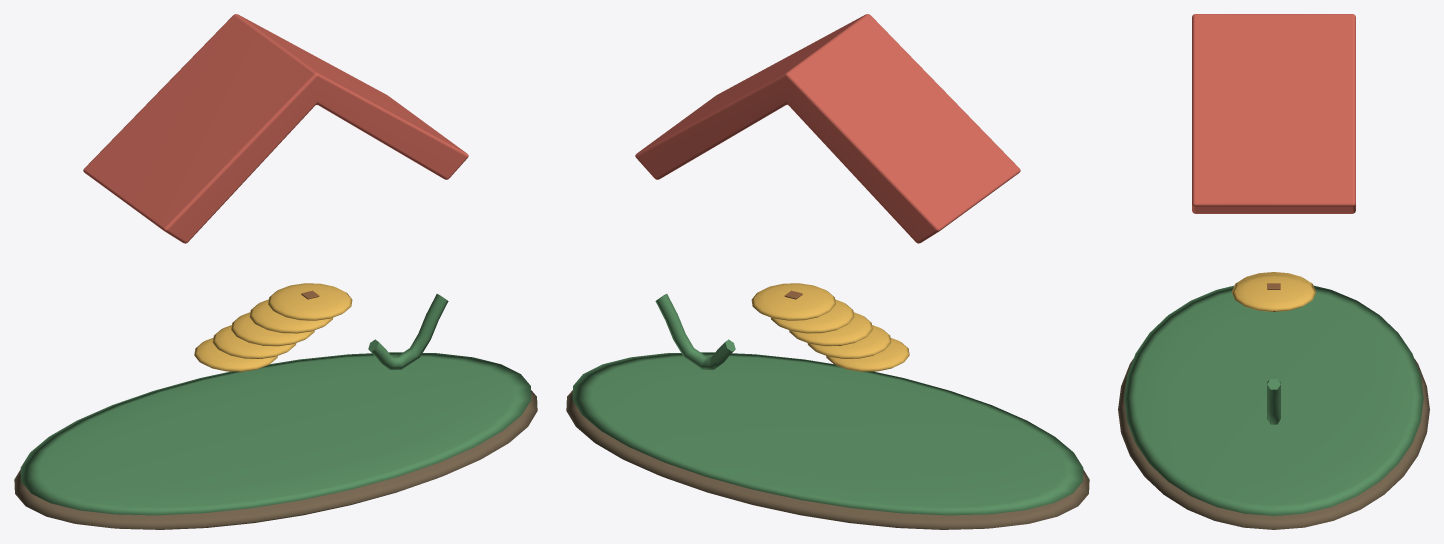
Rendered from complete-first-finished-roof-coin.glb.
The picture shows the model from 3 angles, left to right: view 1: azimuth 30°, elevation 25°; view 2: azimuth 150°, elevation 25°; view 3: azimuth 270°, elevation 25°; orthographic projection.
Parts seen in each view (by area): view 1: complete-first-finished-roof-coin_surface_01, complete-first-finished-roof-coin_surface_02, complete-first-finished-roof-coin_surface_00, complete-first-finished-roof-coin_surface_03; view 2: complete-first-finished-roof-coin_surface_01, complete-first-finished-roof-coin_surface_02, complete-first-finished-roof-coin_surface_00, complete-first-finished-roof-coin_surface_03; view 3: complete-first-finished-roof-coin_surface_01, complete-first-finished-roof-coin_surface_02, complete-first-finished-roof-coin_surface_00, complete-first-finished-roof-coin_surface_03.
Part boxes in pixels (x1,y1,x2,y2): complete-first-finished-roof-coin_surface_01: [20, 294, 531, 515]; complete-first-finished-roof-coin_surface_02: [83, 14, 468, 243]; complete-first-finished-roof-coin_surface_00: [14, 390, 537, 529]; complete-first-finished-roof-coin_surface_03: [194, 283, 352, 371]; complete-first-finished-roof-coin_surface_01: [572, 294, 1083, 515]; complete-first-finished-roof-coin_surface_02: [635, 14, 1020, 243]; complete-first-finished-roof-coin_surface_00: [566, 390, 1089, 529]; complete-first-finished-roof-coin_surface_03: [751, 283, 909, 371]; complete-first-finished-roof-coin_surface_01: [1124, 285, 1423, 515]; complete-first-finished-roof-coin_surface_02: [1192, 14, 1355, 213]; complete-first-finished-roof-coin_surface_00: [1118, 359, 1429, 529]; complete-first-finished-roof-coin_surface_03: [1232, 272, 1315, 311].
Bounding box in the file's own units: 4.56 × 3.63 × 2.5.
